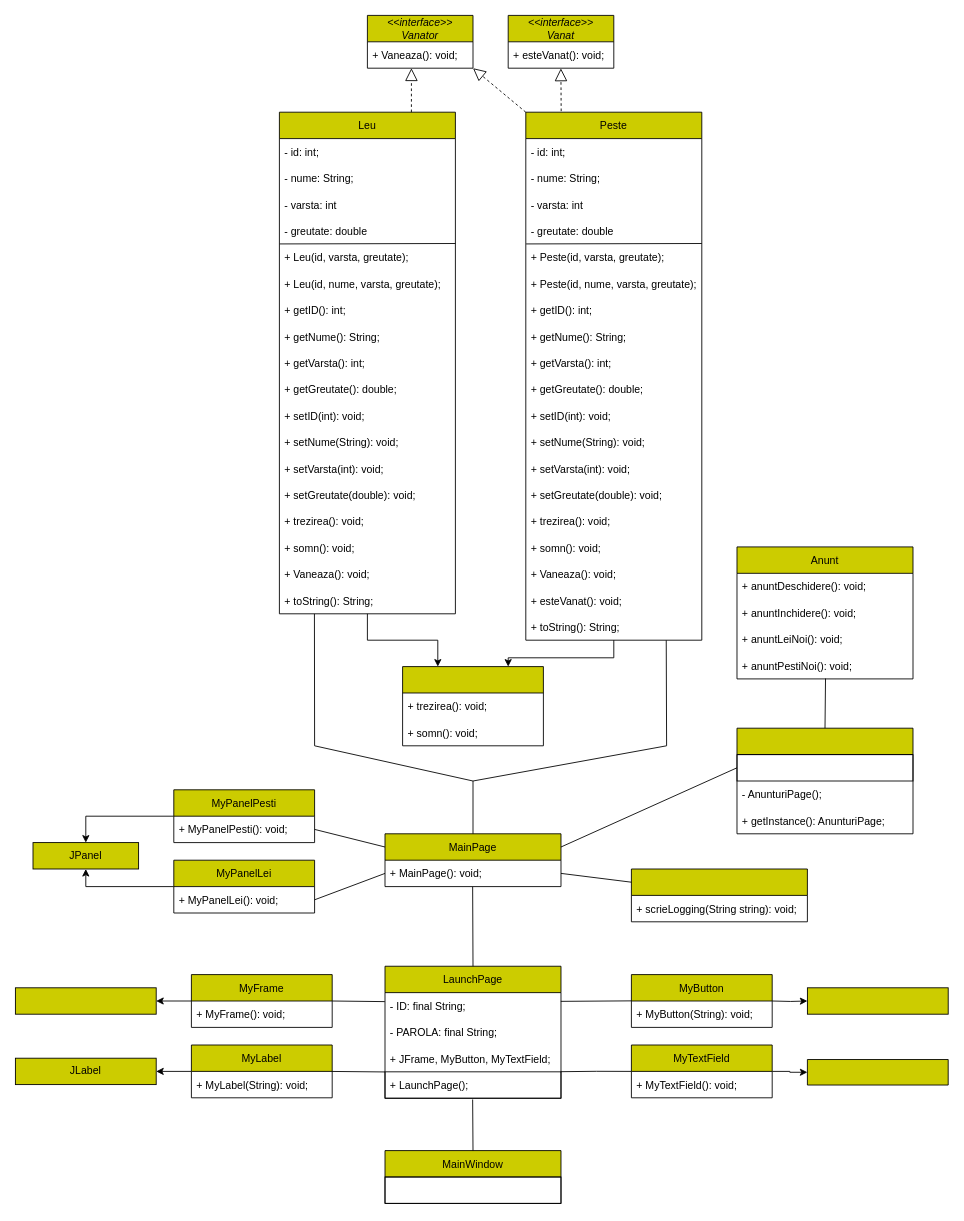
The diagram is 964 pixels wide and 1221 high, and some of its shapes have lost their labels. Each missing label, with the box of its shape:
+ main (String args[]): static void;: (384, 1176, 561, 1203)
- instance: AnunturiPage;: (736, 754, 913, 781)
abstract Animale: (402, 666, 543, 746)
JButton: (807, 987, 948, 1014)
JFrame: (15, 987, 156, 1014)
JTextField: (807, 1059, 948, 1085)
MyLogging: (631, 868, 807, 922)
Singleton AnunturiPage: (736, 727, 913, 834)
